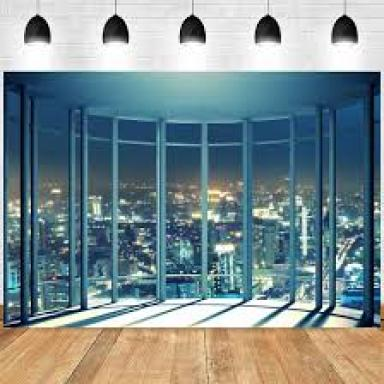glass_panel: (34, 99, 72, 314), (116, 120, 158, 305), (334, 101, 369, 316), (252, 116, 291, 304), (165, 123, 202, 300), (208, 122, 245, 298), (86, 111, 113, 307), (295, 110, 319, 307), (5, 86, 21, 322), (322, 108, 333, 305), (379, 82, 384, 324)
